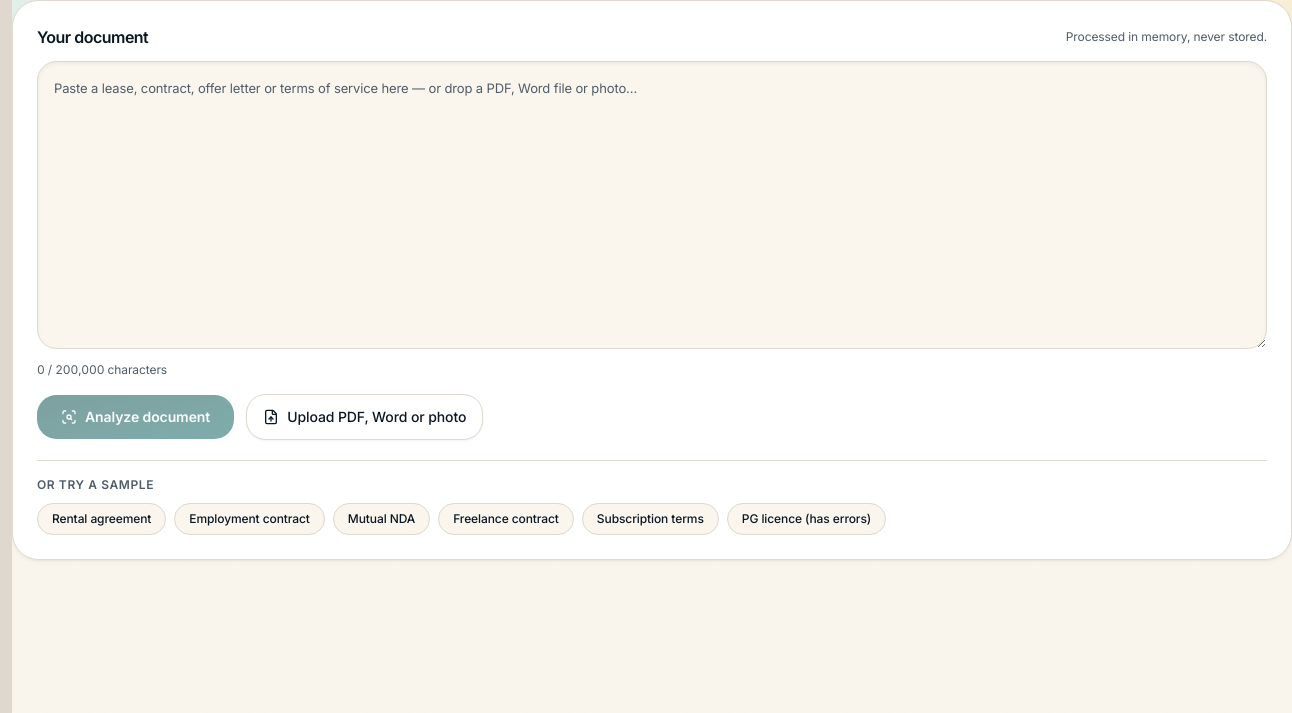
Scenario: Analyzer › cancels an analysis that a newer one has replaced
Click the button "Rental agreement": (102, 519) [37,503,166,535]
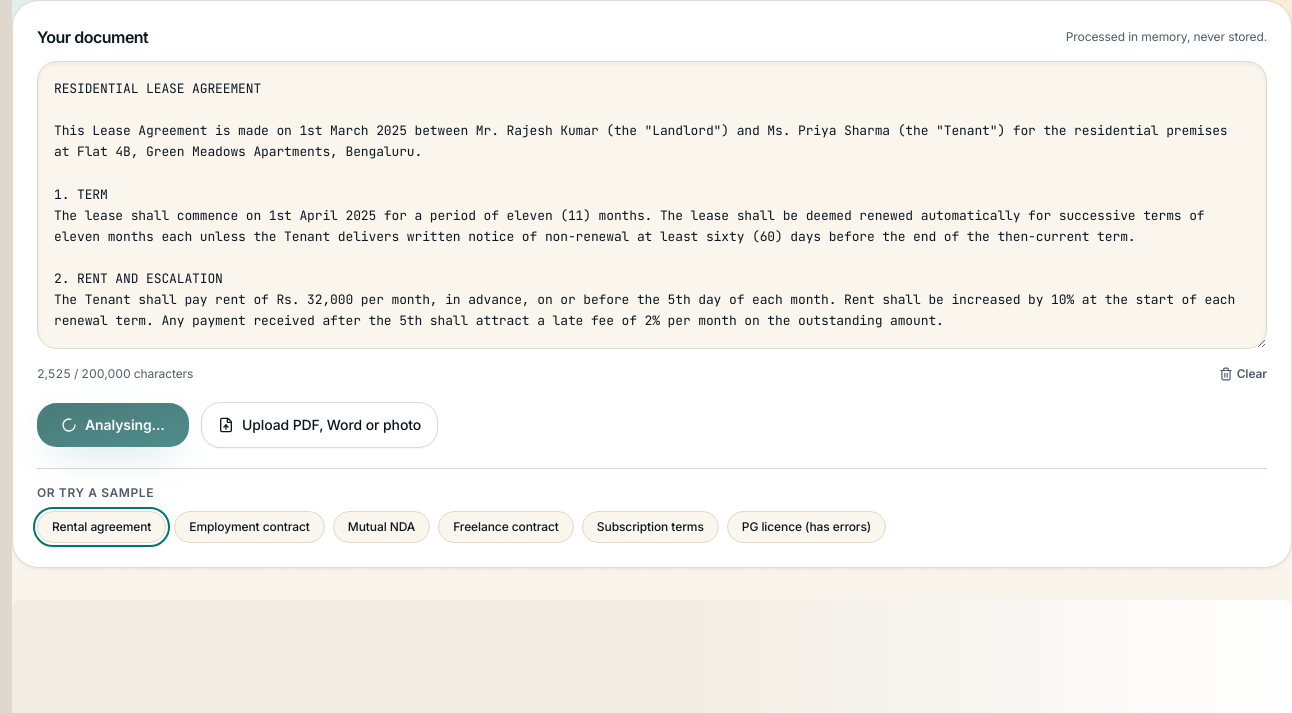
Click the button "Mutual NDA": (382, 527) [333,511,430,543]
(page scrolled)
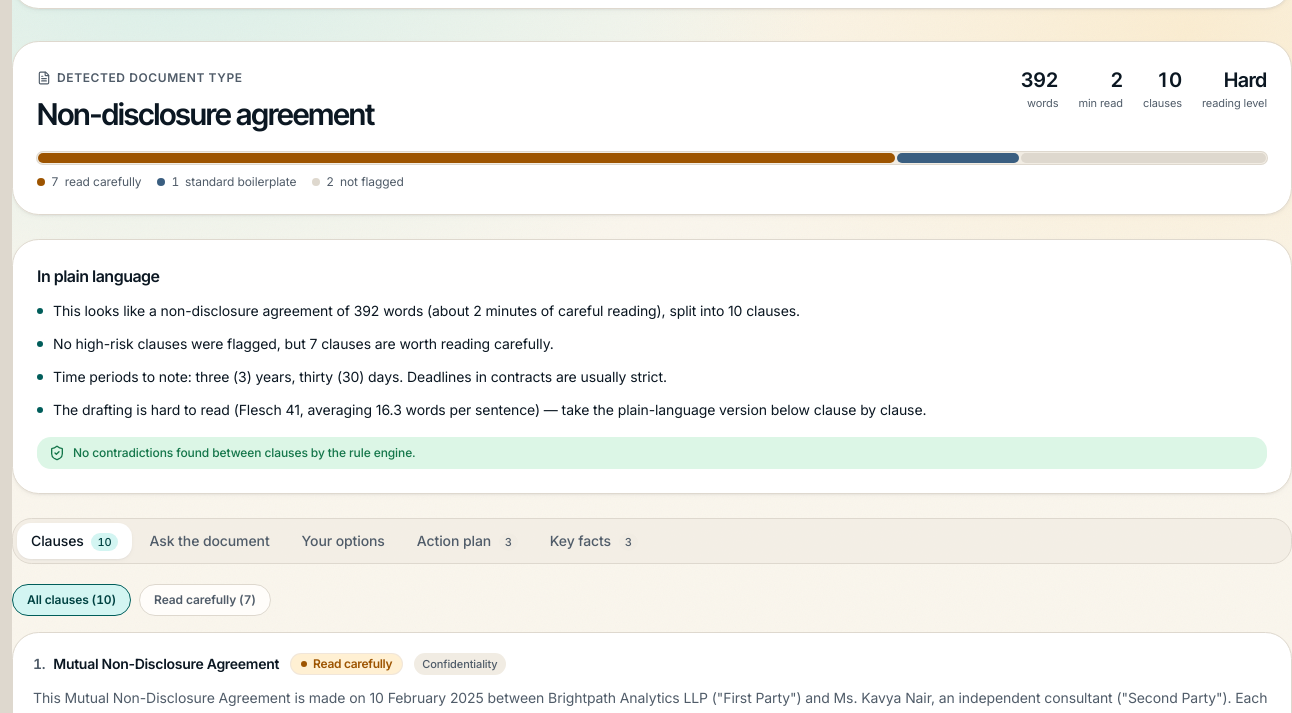
Expected: the heading "Rental agreement" is not shown
Expected: the heading "Non-disclosure agreement" is shown, [37,96,374,132]
